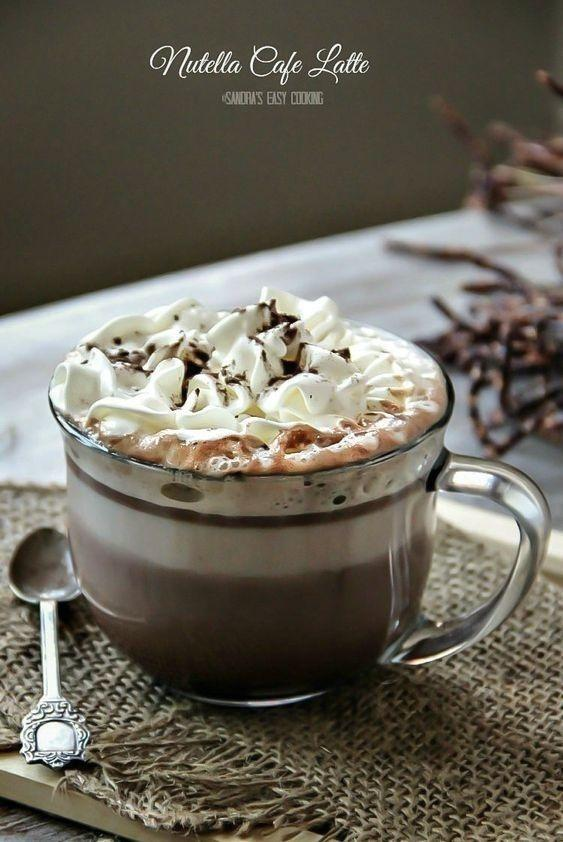glass-mug: (47, 297, 558, 722)
